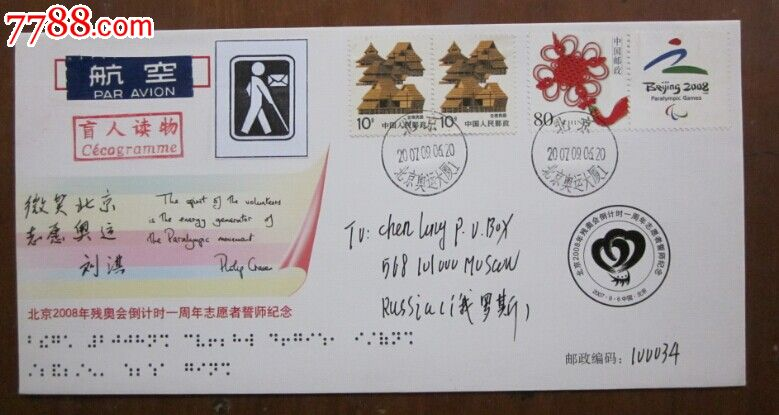Braille: (124, 362, 135, 378), (244, 332, 254, 348), (281, 332, 291, 348), (330, 332, 340, 348), (196, 361, 206, 377), (148, 362, 158, 378), (136, 362, 146, 378), (268, 333, 279, 347), (221, 362, 232, 376), (99, 363, 110, 377), (39, 334, 49, 349), (27, 333, 37, 348), (63, 334, 73, 349), (123, 333, 133, 348), (183, 333, 193, 348), (232, 333, 242, 348), (293, 332, 303, 347), (318, 332, 328, 347), (391, 331, 401, 346), (209, 362, 219, 377), (160, 363, 170, 378), (28, 363, 38, 378), (39, 363, 49, 378), (75, 362, 85, 377), (87, 363, 97, 378), (306, 332, 315, 348), (355, 332, 364, 348), (379, 331, 388, 347), (87, 334, 97, 348), (99, 334, 109, 348), (111, 334, 121, 348), (159, 334, 169, 348), (196, 334, 206, 348), (208, 334, 218, 348), (220, 334, 230, 348), (404, 331, 414, 345), (52, 334, 61, 349), (184, 362, 193, 377), (52, 363, 61, 378), (64, 363, 73, 378), (136, 334, 145, 348), (148, 334, 157, 348), (367, 332, 376, 346)
